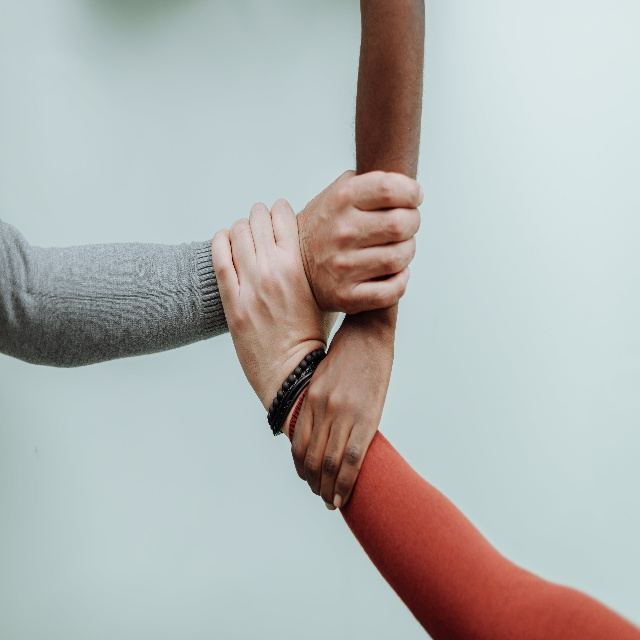Sin_guantes: (210, 194, 344, 421), (288, 298, 397, 507), (294, 164, 425, 314)
